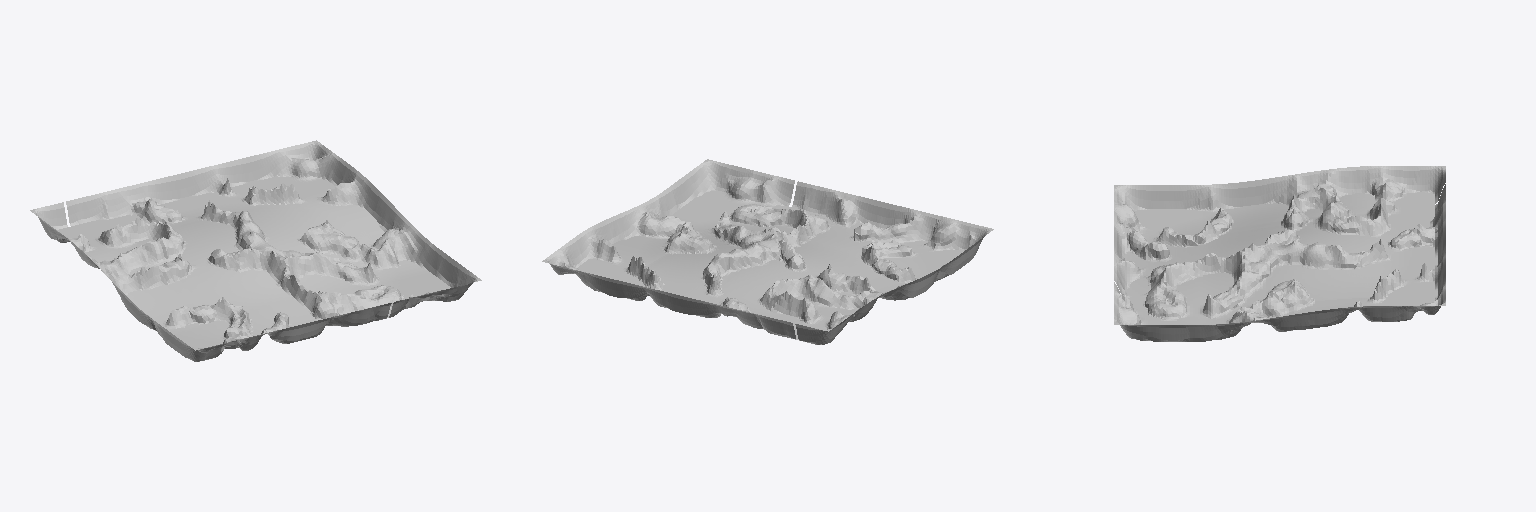
Rendered from craggy fields.obj.
3 renders of one model, left to right at view 1: azimuth 30°, elevation 25°; view 2: azimuth 150°, elevation 25°; view 3: azimuth 270°, elevation 25°, orthographic.
Visible parts, largest first — view 1: Landscape; view 2: Landscape; view 3: Landscape.
Boxes of the visible parts, <box> form: Landscape: <box>30,140,481,361</box>; Landscape: <box>542,159,993,344</box>; Landscape: <box>1114,166,1445,341</box>.
Bounding box in the file's own units: 400 × 53.11 × 400.